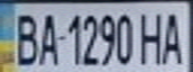0: (115, 9, 139, 65)
1: (60, 9, 81, 66)
2: (78, 8, 100, 66)
9: (97, 9, 118, 66)
A: (157, 7, 190, 65), (36, 8, 60, 66)
B: (9, 8, 42, 68)
H: (136, 7, 166, 65)
